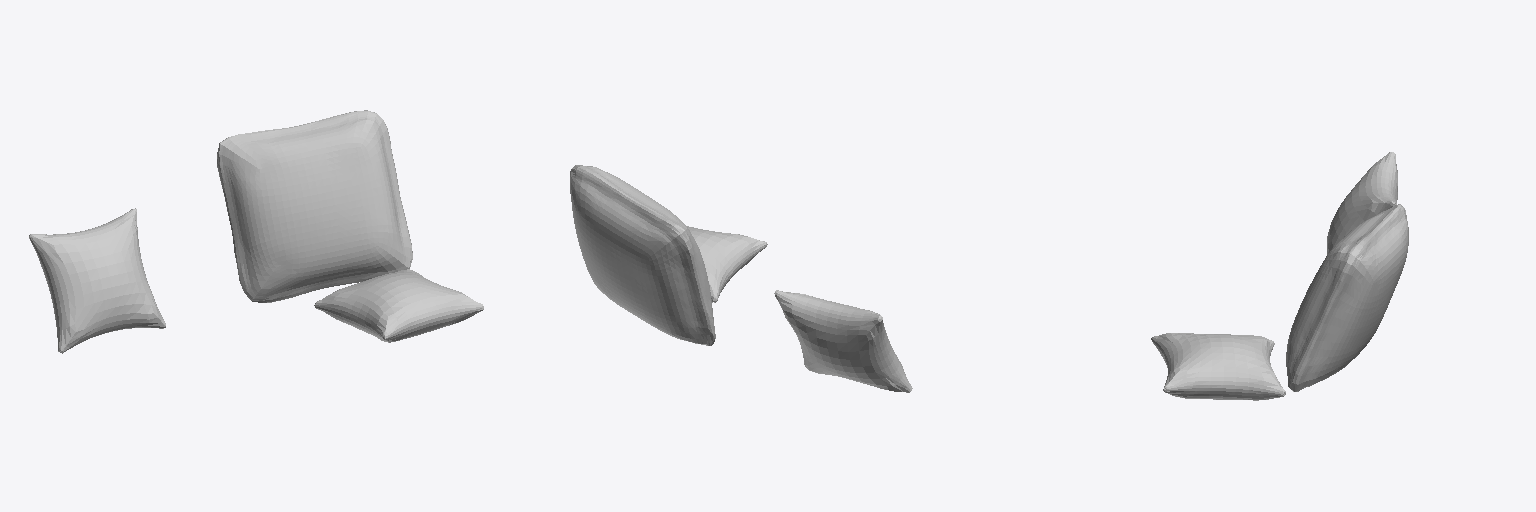
The model's file is texturetest03.obj.
The picture shows the model from 3 angles: view 1: azimuth 30°, elevation 25°; view 2: azimuth 150°, elevation 25°; view 3: azimuth 270°, elevation 25°; orthographic projection.
Visible parts, largest first — view 1: pCube1 Cushion_Large, pCube1 Cushion_Small_1, pCube1 Cushion_Small_2; view 2: pCube1 Cushion_Large, pCube1 Cushion_Small_1, pCube1 Cushion_Small_2; view 3: pCube1 Cushion_Large, pCube1 Cushion_Small_2, pCube1 Cushion_Small_1.
Boxes of the visible parts, <box> form: pCube1 Cushion_Large: <box>217,110,412,302</box>; pCube1 Cushion_Small_1: <box>29,208,165,353</box>; pCube1 Cushion_Small_2: <box>314,269,483,342</box>; pCube1 Cushion_Large: <box>570,165,715,345</box>; pCube1 Cushion_Small_1: <box>774,290,912,392</box>; pCube1 Cushion_Small_2: <box>687,226,767,302</box>; pCube1 Cushion_Large: <box>1286,204,1408,391</box>; pCube1 Cushion_Small_2: <box>1151,333,1285,400</box>; pCube1 Cushion_Small_1: <box>1327,152,1397,254</box>.
Bounding box in the file's own units: 163 × 74.02 × 106.